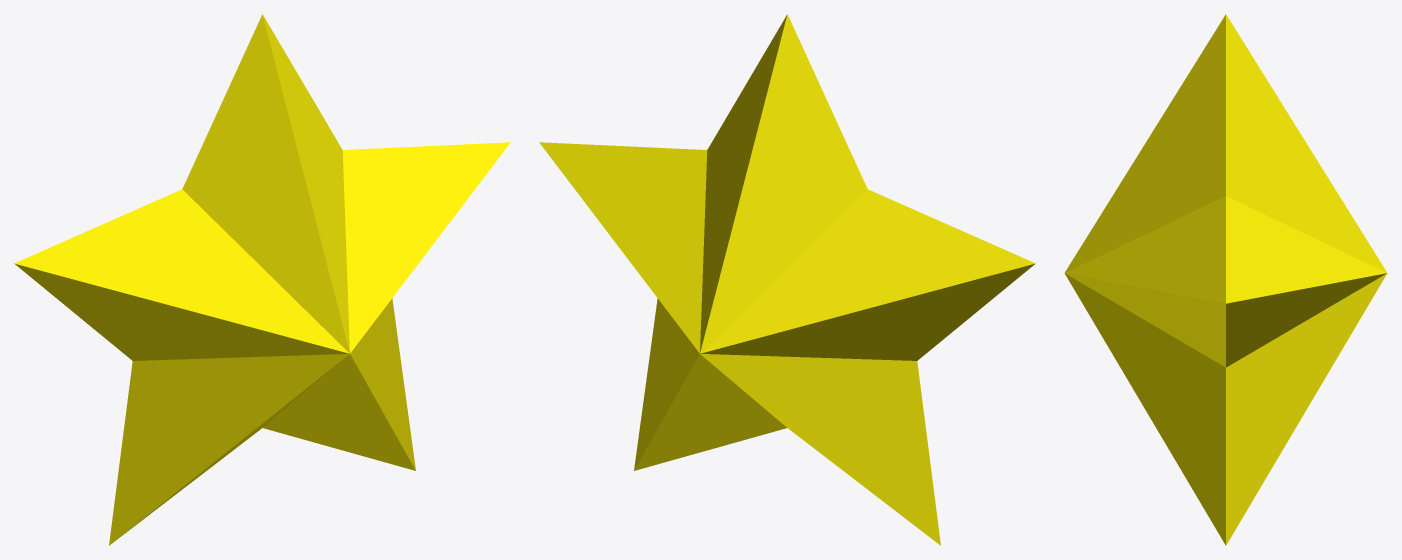
Rendered from star.fbx.
3 renders of one model, left to right at view 1: azimuth 30°, elevation 25°; view 2: azimuth 150°, elevation 25°; view 3: azimuth 270°, elevation 25°, orthographic. The views are drawn at different scales.
Parts seen in each view (by area): view 1: Star; view 2: Star; view 3: Star.
Boxes of the visible parts, box(x1,y1,x2,y2) form: Star: box(14, 14, 510, 545); Star: box(539, 14, 1035, 545); Star: box(1064, 14, 1387, 545).
Bounding box in the file's own units: 75.38 × 45.44 × 71.69.
1 material, 1 textured.
